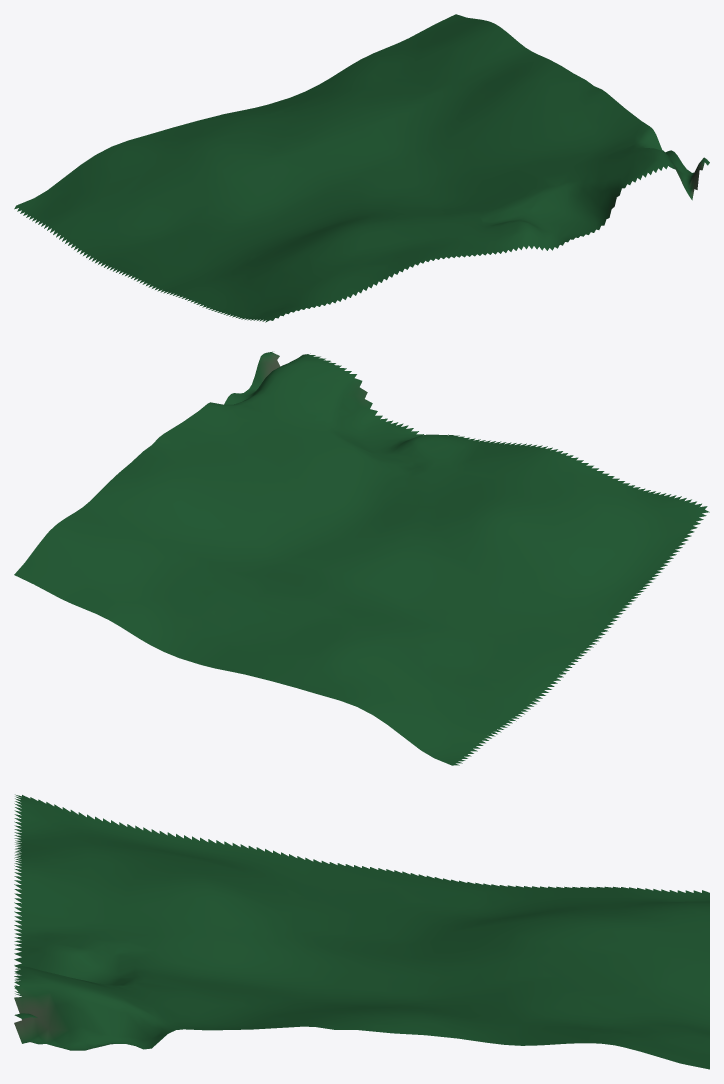
File: payo_land_x1_ym2_lod2.glb
The picture shows the model from 3 angles, top to bottom: view 1: azimuth 30°, elevation 25°; view 2: azimuth 150°, elevation 25°; view 3: azimuth 270°, elevation 25°; orthographic projection. The views are drawn at different scales.
Visible parts, largest first — view 1: payo_land_x1_ym2; view 2: payo_land_x1_ym2; view 3: payo_land_x1_ym2.
Boxes of the visible parts, <box> form: payo_land_x1_ym2: <box>14,14,709,322</box>; payo_land_x1_ym2: <box>14,351,709,765</box>; payo_land_x1_ym2: <box>14,794,709,1069</box>.
Size of the model in its own units: 258 by 72.52 by 258.
